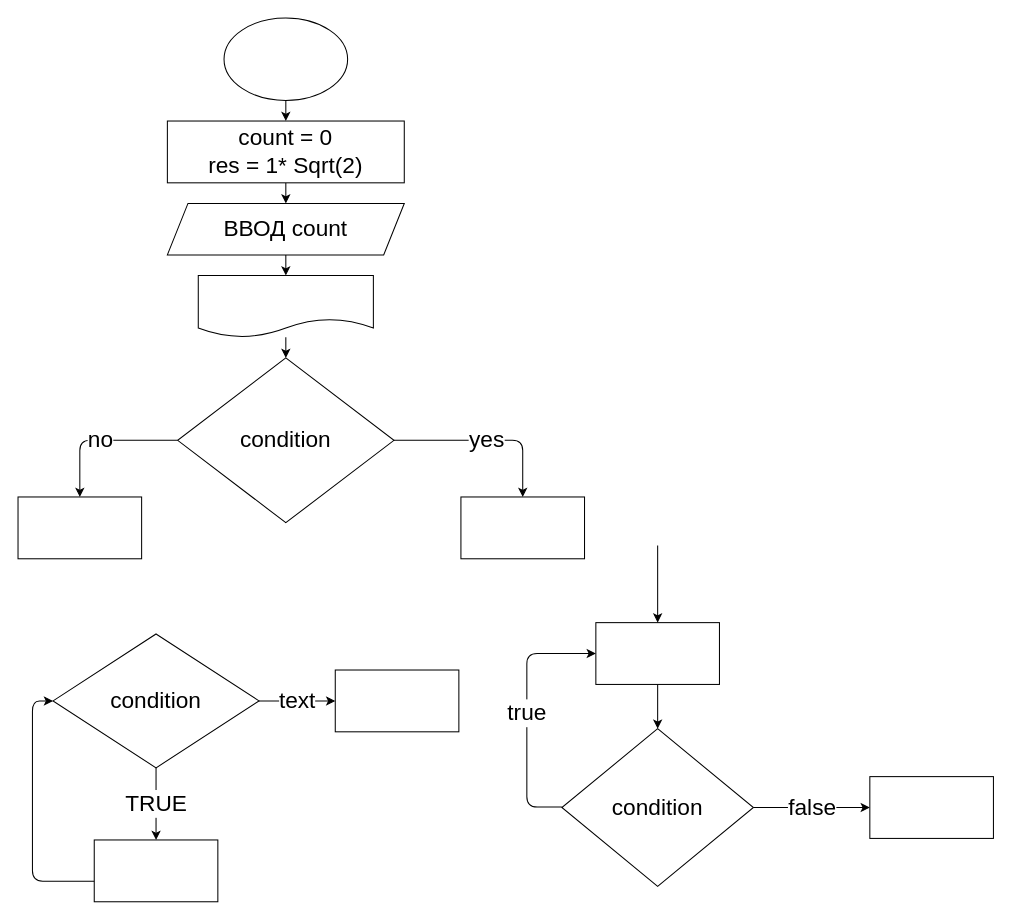
The diagram is 1011 pixels wide and 920 high, and some of its shapes have lost their labels. Here are the shapes that lost their labels. From the top down, the centre of each, then its label:
At pixel 285 58: "Start END".
At pixel 285 305: "ВЫВОД res".
